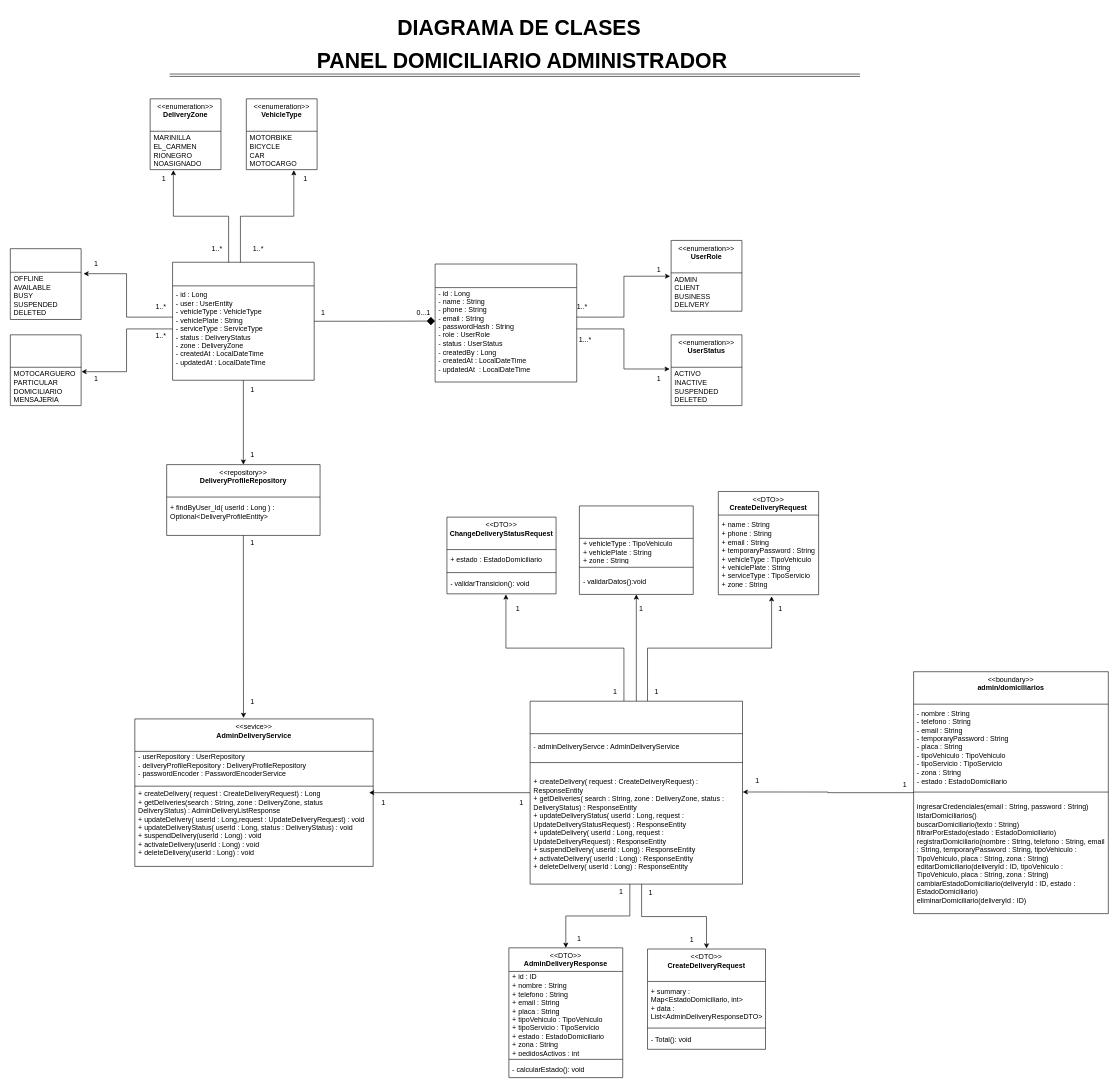
Image size: 1119x1088. Some labels were removed from this diagram. The box of each missing label's shape, as (x1, y1, x2, y2) in pixels:
<<controller>> AdminDeliveryController: (530, 701, 743, 884)
<<DTO>> UpdateDeliveryRequest: (579, 505, 693, 594)
<<entity>> DeliveryProfileEntity: (172, 262, 314, 380)
<<entity>> UserEntity: (435, 263, 577, 382)
<<enumeration>> DeliveryStatus: (10, 248, 81, 319)
<<enumeration>> ServiceType: (10, 334, 81, 406)
